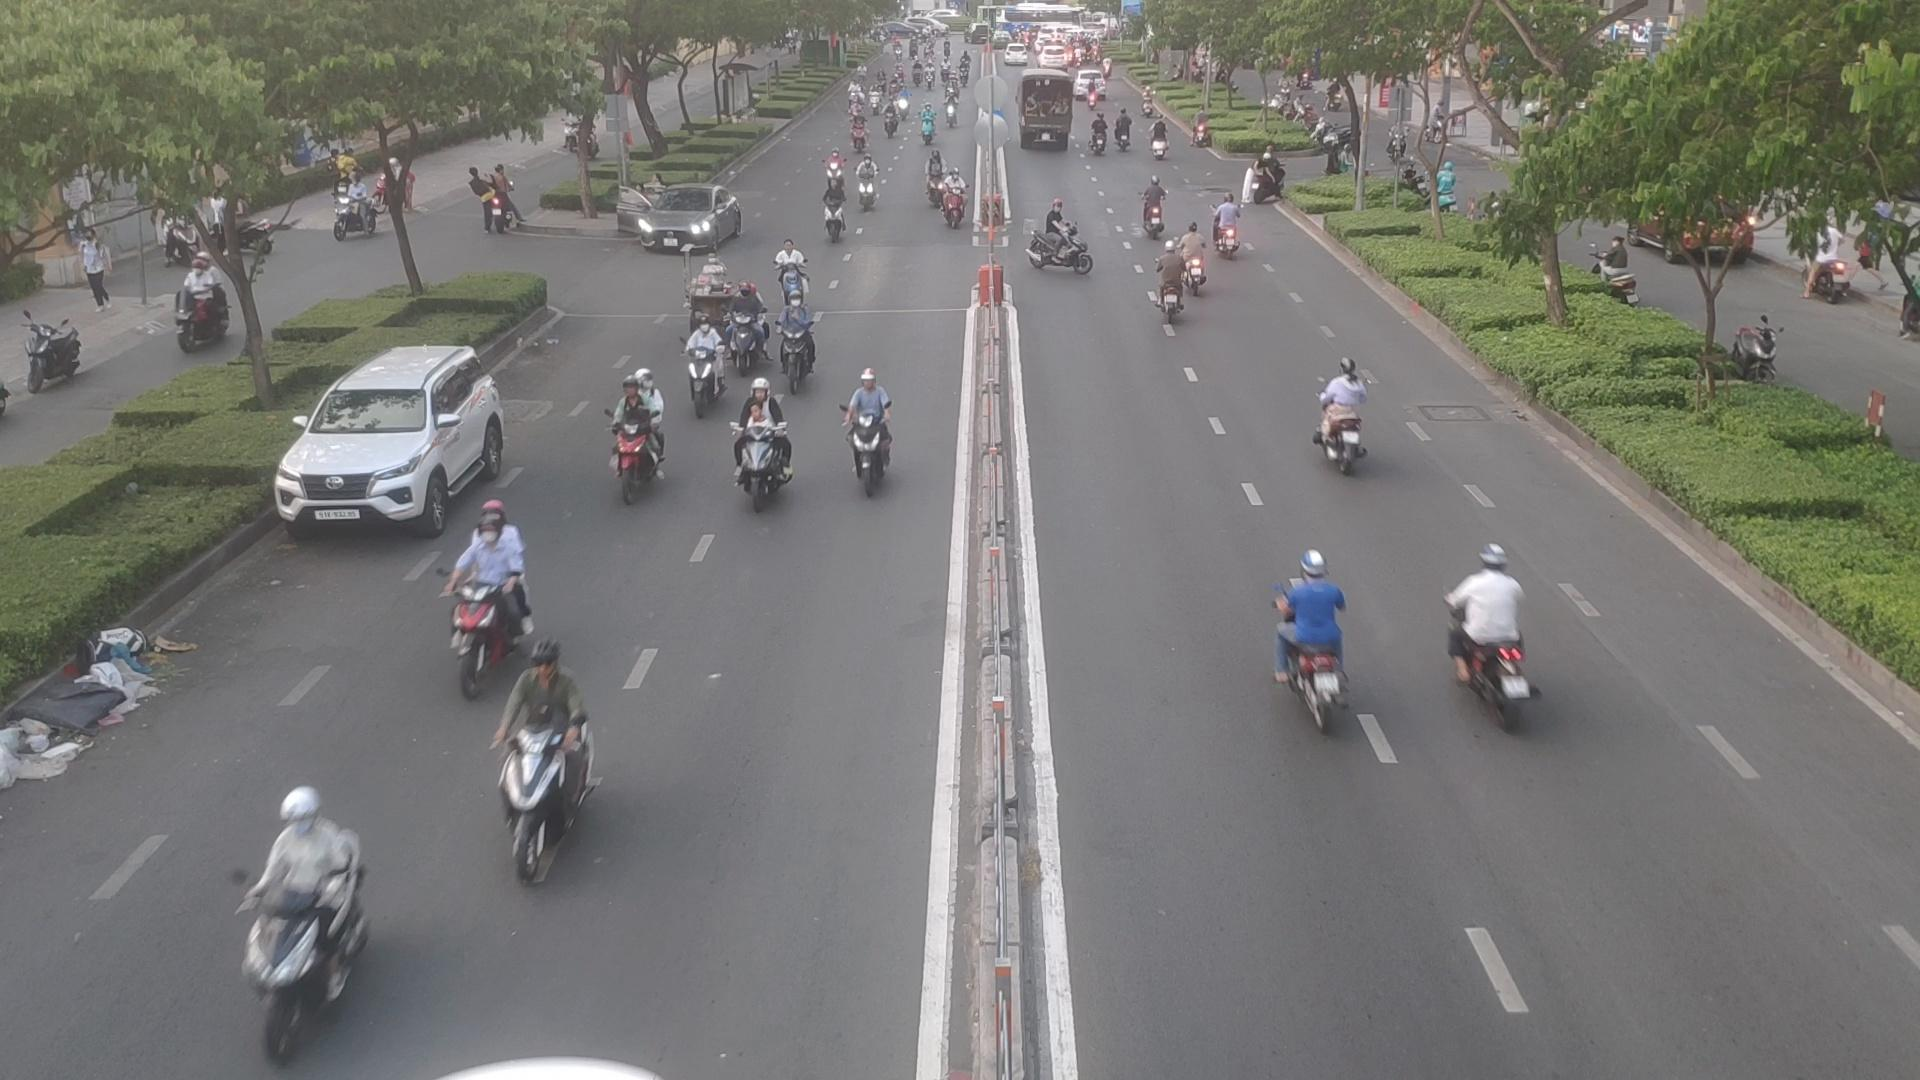car: (272, 345, 513, 535), (622, 189, 748, 258)
motorbike: (244, 779, 361, 1011), (1451, 530, 1539, 731), (509, 629, 582, 866), (1271, 541, 1361, 724), (458, 477, 524, 680), (597, 339, 674, 497), (844, 359, 905, 496), (1026, 200, 1106, 270), (735, 426, 799, 508), (1317, 404, 1371, 476), (783, 287, 824, 382), (680, 316, 721, 401), (729, 269, 761, 375), (811, 170, 851, 244), (1151, 241, 1187, 319), (1176, 222, 1211, 289), (938, 166, 975, 227), (1213, 186, 1241, 255), (856, 142, 884, 206), (1137, 164, 1166, 223), (1147, 109, 1174, 153), (926, 146, 945, 194), (1095, 113, 1112, 152)
